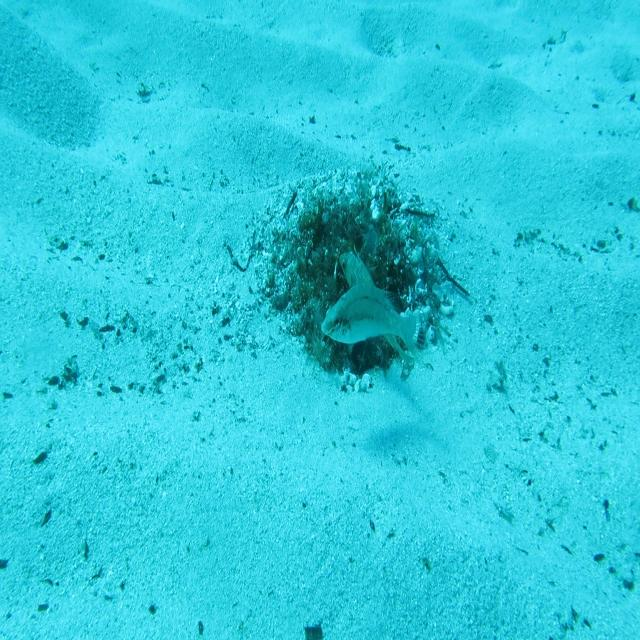ROLL: (335, 242, 418, 368)
core_nest: (325, 219, 371, 255)
female: (320, 282, 431, 371)
nest: (249, 147, 463, 400)
vegetation: (304, 622, 323, 640)
